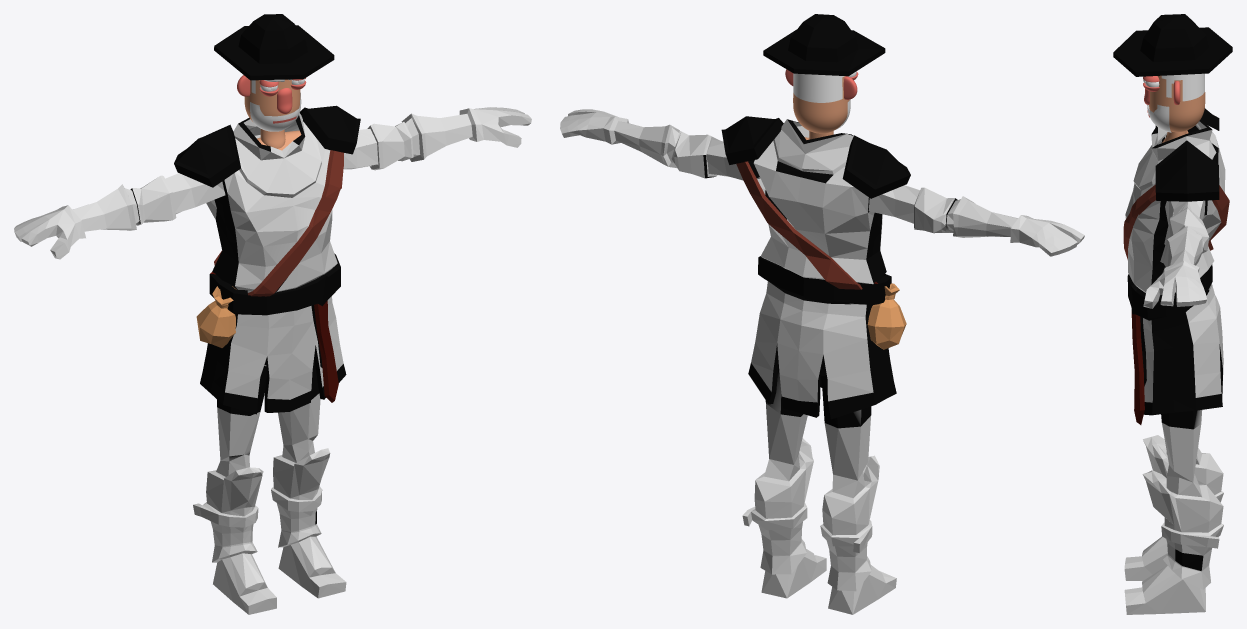
File: Cavaleiro.fbx
3 renders of one model, left to right at view 1: azimuth 30°, elevation 25°; view 2: azimuth 150°, elevation 25°; view 3: azimuth 270°, elevation 25°, orthographic.
Visible parts, largest first — view 1: Cube.004; view 2: Cube.004; view 3: Cube.004.
Boxes of the visible parts, x1,y1,x2,y2 form: Cube.004: (14, 14, 531, 614); Cube.004: (560, 14, 1084, 614); Cube.004: (1113, 14, 1232, 614).
Size of the model in its own units: 2540 by 2722 by 514.
